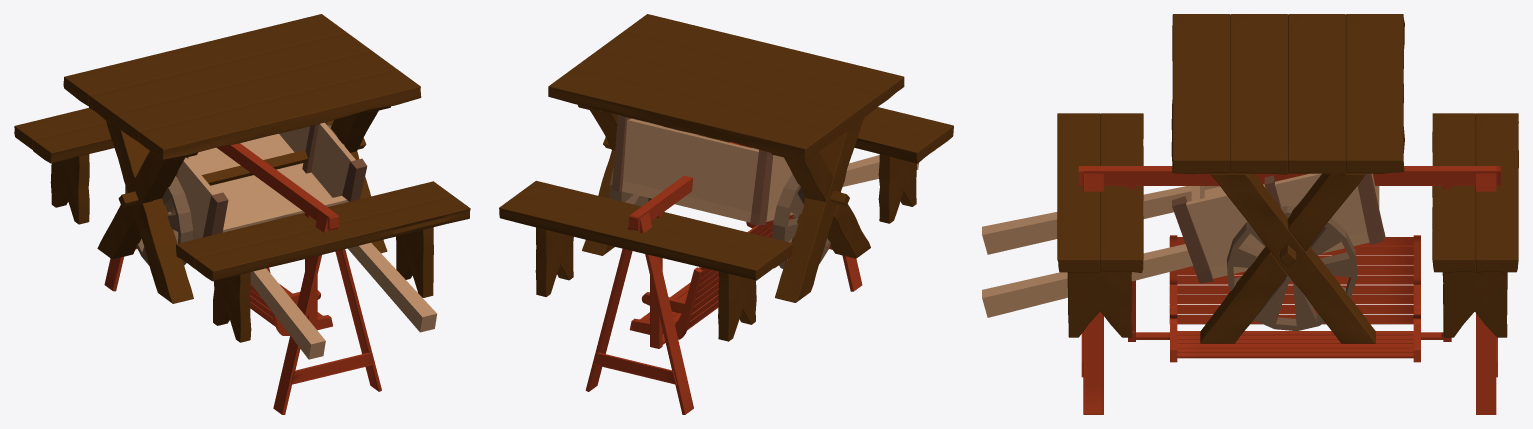
Rendered from furniture.glb.
3 views of the same model, side by side, from view 1: azimuth 30°, elevation 25°; view 2: azimuth 150°, elevation 25°; view 3: azimuth 270°, elevation 25° (orthographic). The views are drawn at different scales.
Parts seen in each view (by area): view 1: Table, Cart, Swing, Cylinder; view 2: Table, Cart, Swing, Cylinder; view 3: Table, Swing, Cart, Cylinder.
Part boxes in pixels (x1=…): Table: x1=14, y1=14, x2=470, y2=342; Cart: x1=168, y1=122, x2=436, y2=359; Swing: x1=104, y1=143, x2=381, y2=414; Cylinder: x1=125, y1=124, x2=344, y2=265; Table: x1=499, y1=14, x2=953, y2=341; Cart: x1=612, y1=115, x2=918, y2=225; Swing: x1=585, y1=142, x2=862, y2=414; Cylinder: x1=609, y1=167, x2=830, y2=268; Table: x1=1057, y1=14, x2=1518, y2=343; Swing: x1=1078, y1=166, x2=1500, y2=414; Cart: x1=982, y1=173, x2=1385, y2=317; Cylinder: x1=1227, y1=205, x2=1357, y2=331.
Bounding box in the file's own units: 2.41 × 2.3 × 3.74.
3 materials, 1 textured.
